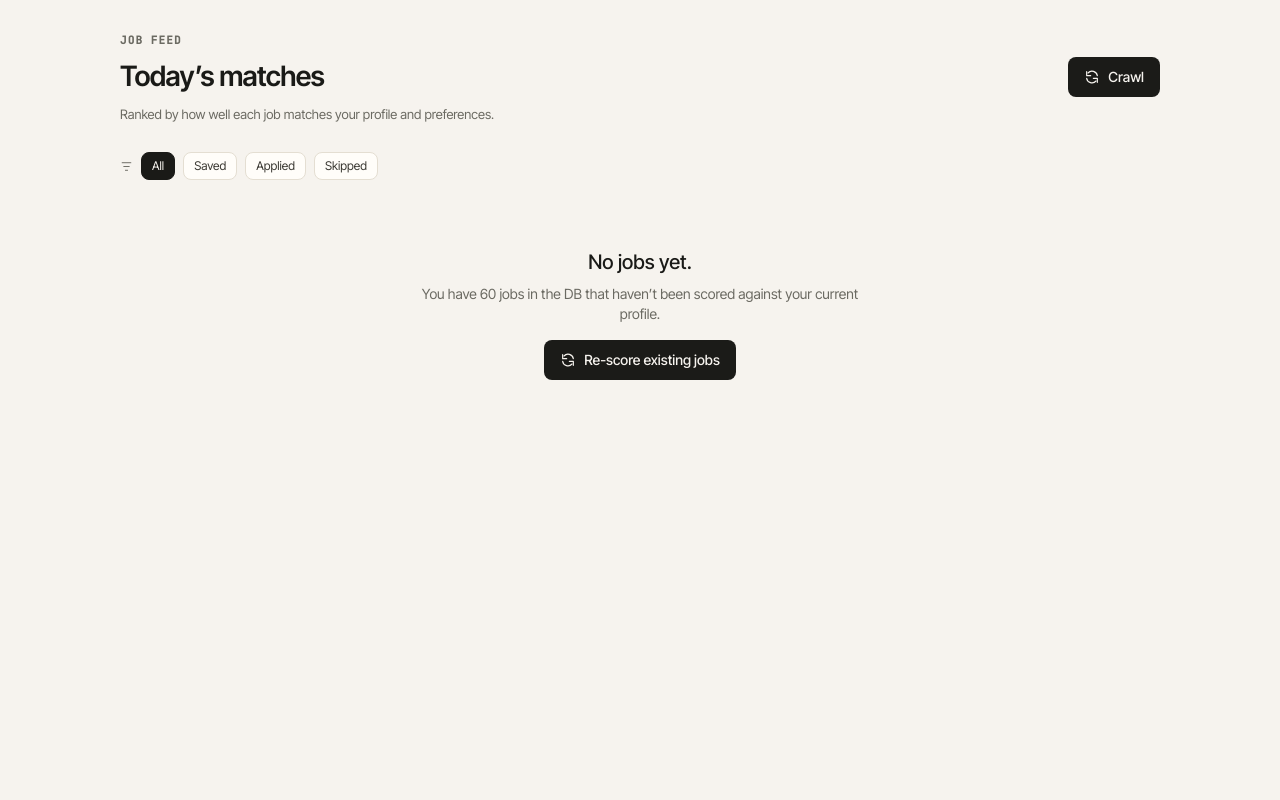
it: FeedScreen › capped rescore toast names the leftover count
The image size is (1280, 800).
Click the button with test id "rescore-existing". click: {"x": 640, "y": 360}
box: [544,340,736,380]
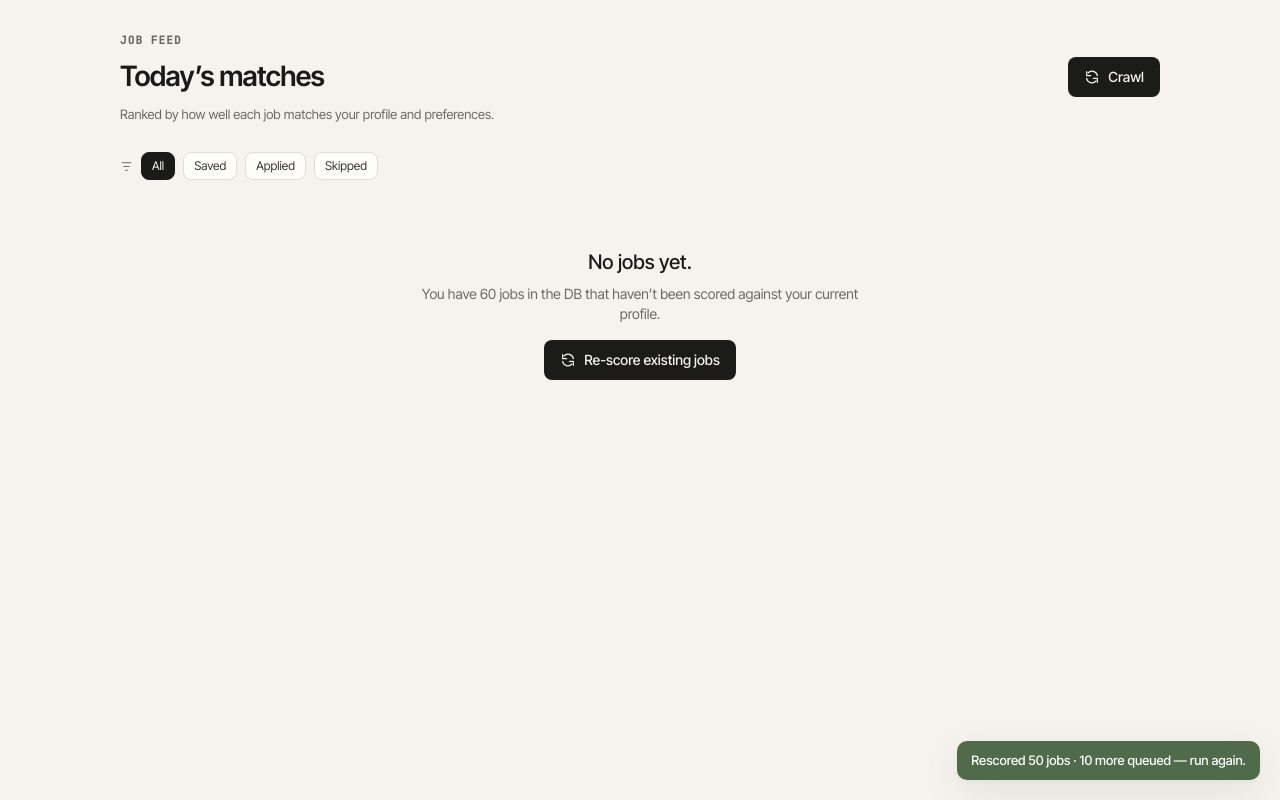
Result: the text "Rescored 50 jobs · 10 more queued — run again." is shown at [957,740,1260,780]
